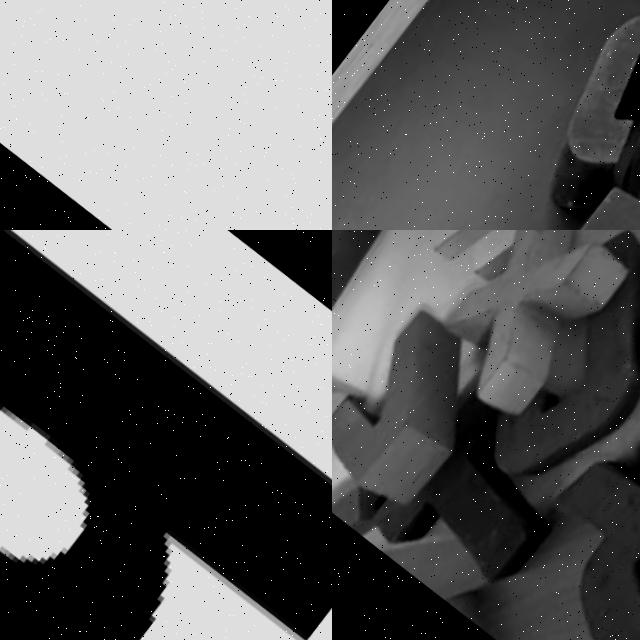E: (424, 149, 640, 230)
K: (478, 362, 640, 640)
R: (0, 0, 332, 230)
S: (490, 0, 640, 230)
V: (332, 313, 506, 543)
X: (391, 230, 640, 449)
